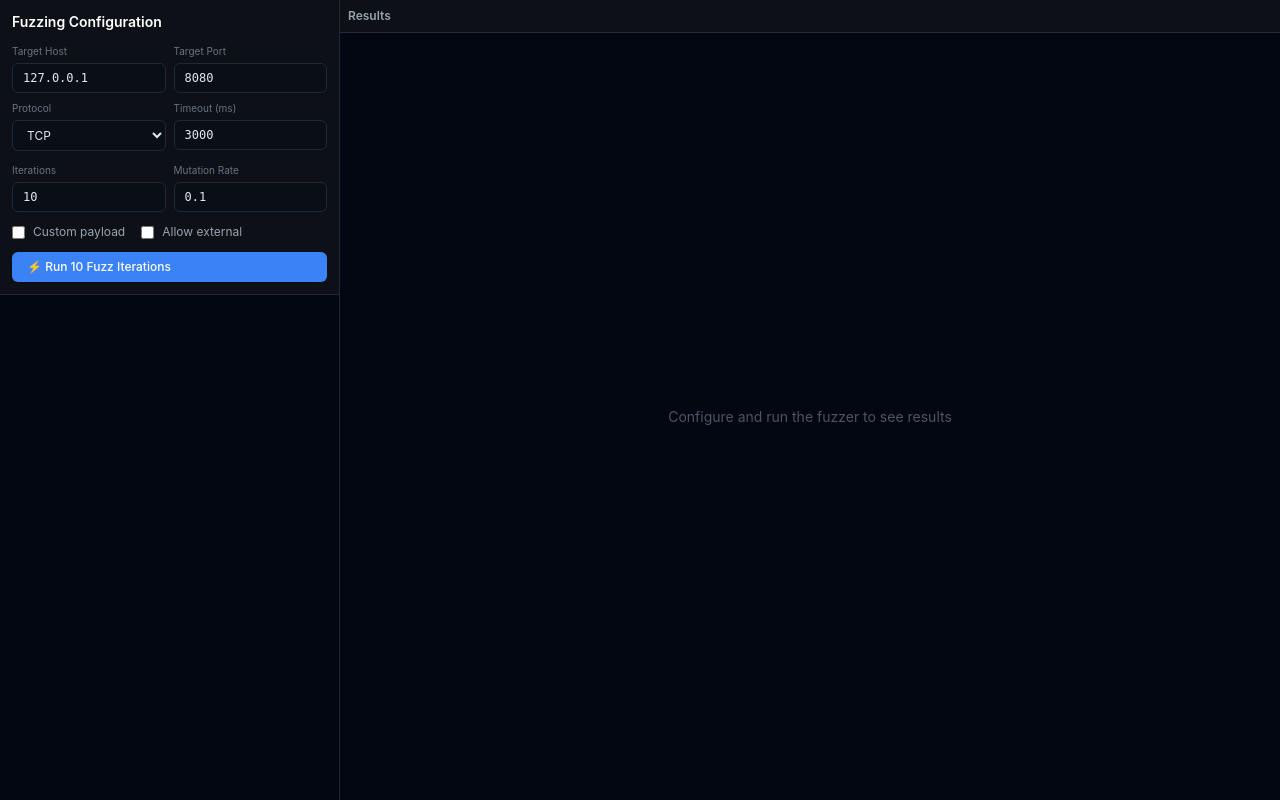
it: FuzzerView › shows a cancel button while running and cancels on click
This screenshot has width=1280, height=800.
Click the button "⚡ Run 10 Fuzz Iterations" at (170, 267), box top-left (12, 252), bottom-right (327, 282)
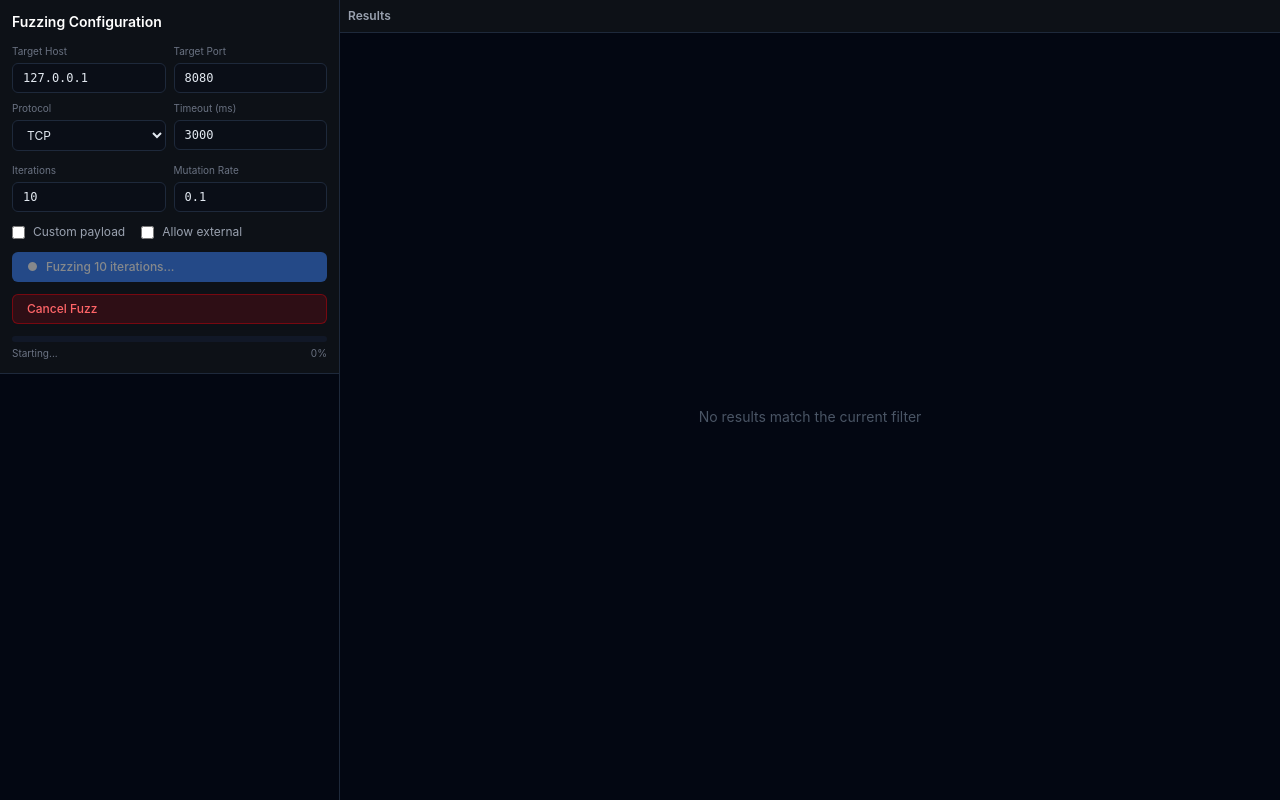
Click the button "Cancel Fuzz" at (62, 308), box top-left (12, 294), bottom-right (327, 324)
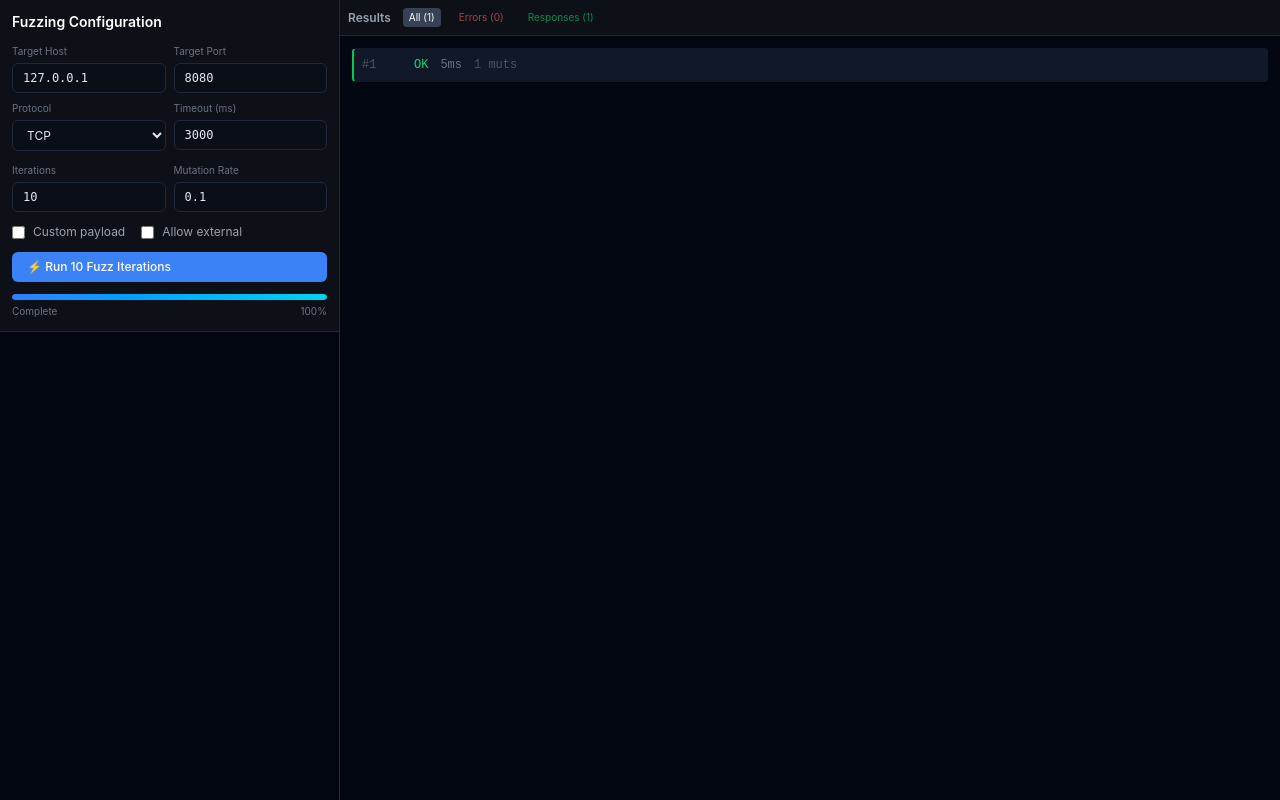
Expected: the button "All (1)" is shown, top-left (403, 8), bottom-right (441, 27)
